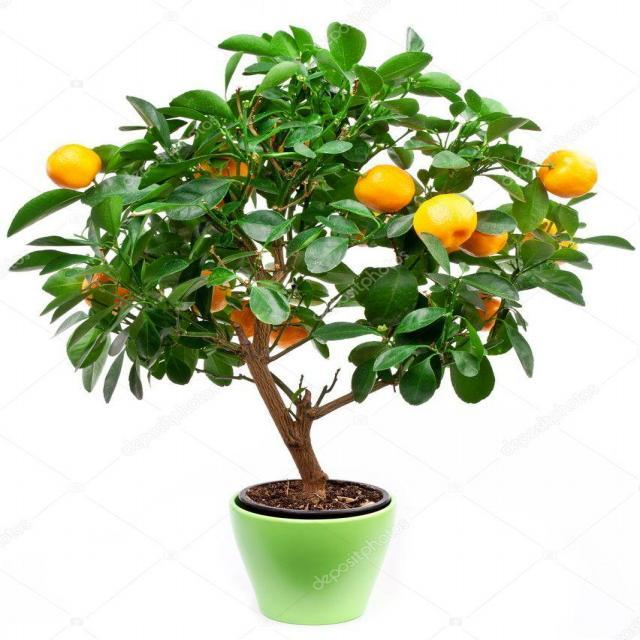Jeruk Sudah Matang: (407, 188, 494, 268), (534, 146, 612, 206), (354, 163, 426, 220), (44, 140, 113, 194)
